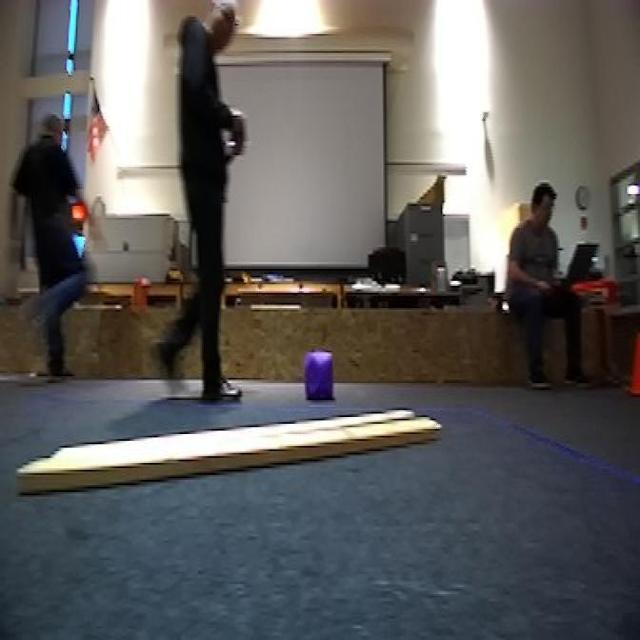frc_cube: (301, 354, 337, 402)
